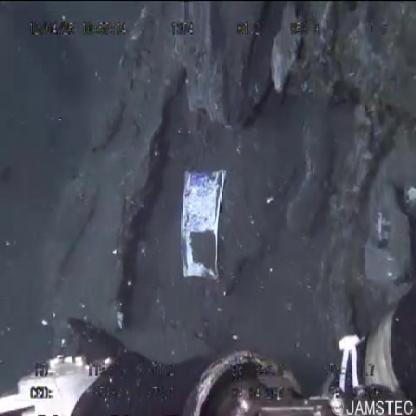Rov: (1, 298, 413, 415)
Rác: (178, 166, 230, 286)
